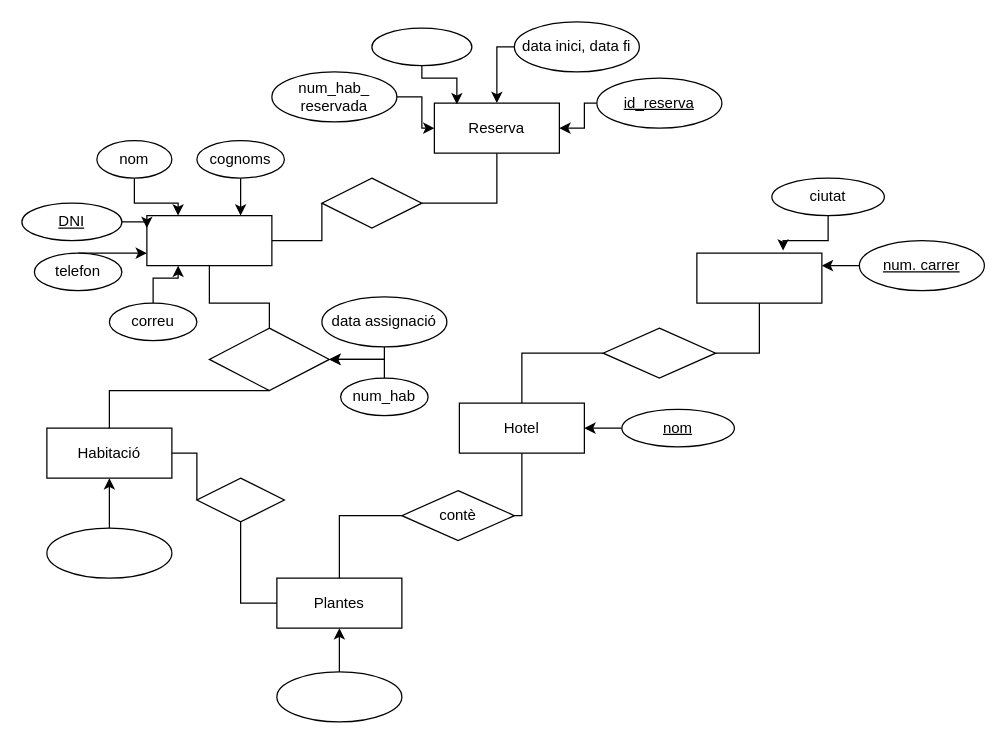
Some shapes in this 1006 by 744 pixel diagram are drawn without their labels. Each missing label, with the centre of its shape:
assignat: point (268, 359)
Client: point (209, 240)
està: point (659, 352)
fer: point (371, 202)
Localització: point (759, 277)
num_habitacions: point (109, 552)
num_plantes: point (339, 696)
preu: point (421, 46)
té: point (240, 499)
